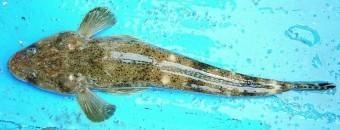fish: (6, 7, 337, 124)
